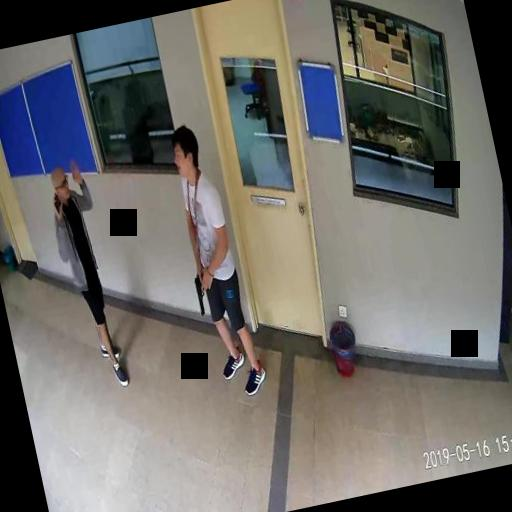Handgun: (191, 270, 210, 313)
